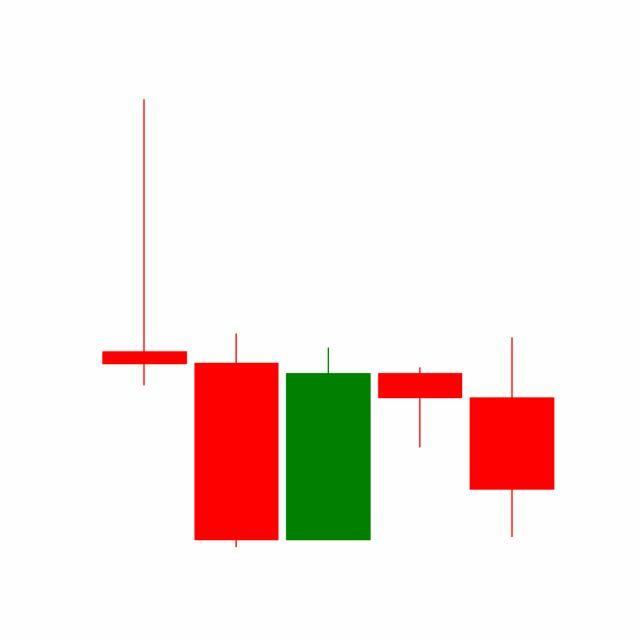Dragonfly Doji: (374, 366, 468, 449)
